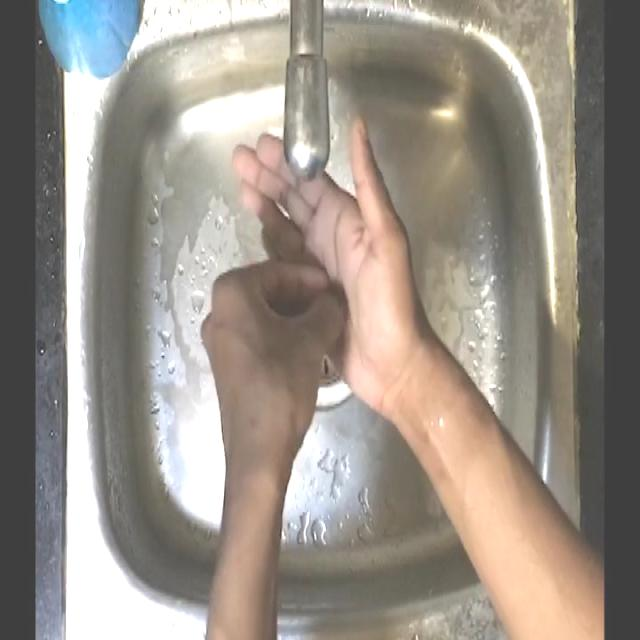step_6: (194, 113, 415, 437)
